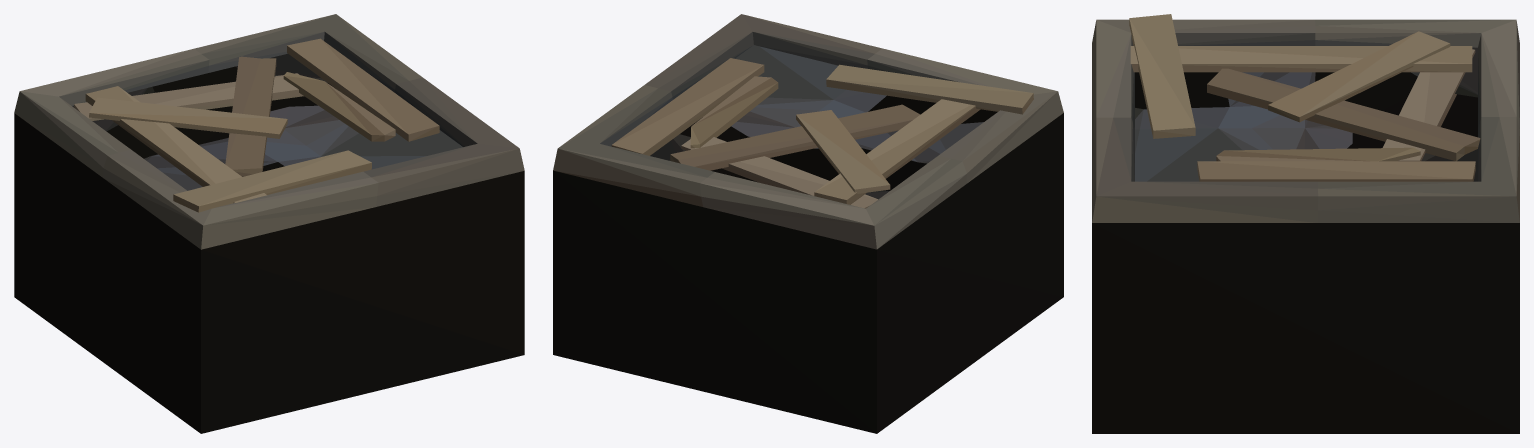
File: floor_bordered_4m_4.fbx
3 renders of one model, left to right at view 1: azimuth 30°, elevation 25°; view 2: azimuth 150°, elevation 25°; view 3: azimuth 270°, elevation 25°, orthographic. The views are drawn at different scales.
Visible parts, largest first — view 1: floor_bordered_4m_4; view 2: floor_bordered_4m_4; view 3: floor_bordered_4m_4.
Part boxes in pixels (box(x1,y1,x2,y2)): floor_bordered_4m_4: box(14, 14, 524, 433); floor_bordered_4m_4: box(553, 14, 1063, 433); floor_bordered_4m_4: box(1092, 14, 1519, 433).
Bounding box in the file's own units: 4.01 × 2.51 × 4.
